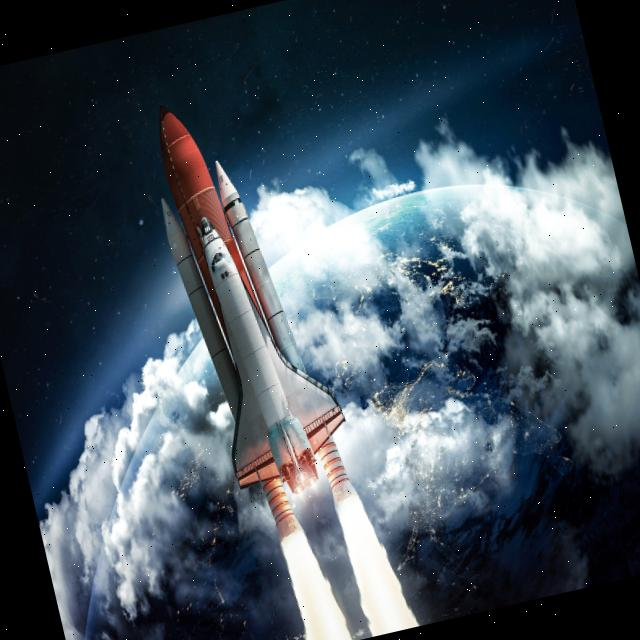rocket: (204, 202, 352, 506)
